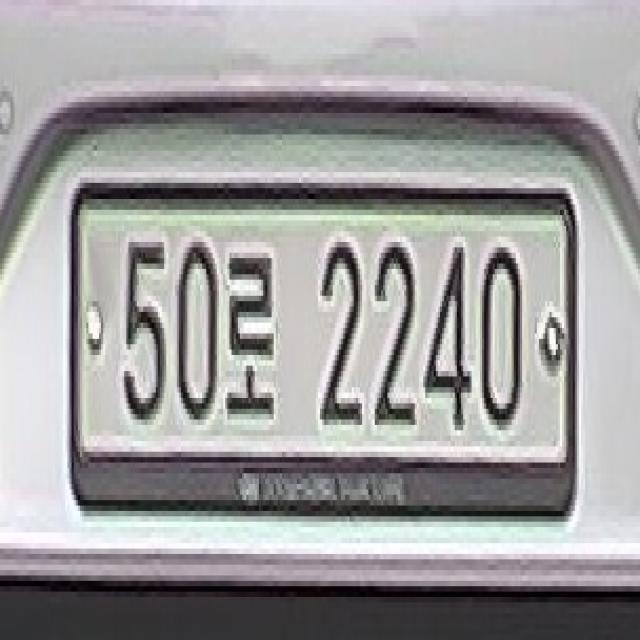0: (479, 233, 528, 444), (176, 231, 221, 436)
2: (315, 226, 367, 434), (372, 232, 420, 434)
4: (422, 229, 474, 436)
5: (121, 234, 170, 431)
license_plate: (59, 172, 588, 534)
lo: (224, 233, 284, 442)
